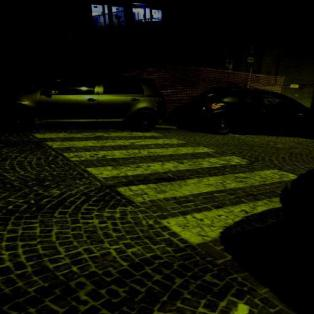Paso de Cebra: (58, 144, 250, 182)
